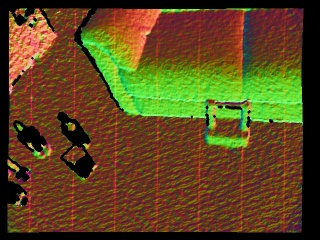station: (205, 101, 250, 147)
